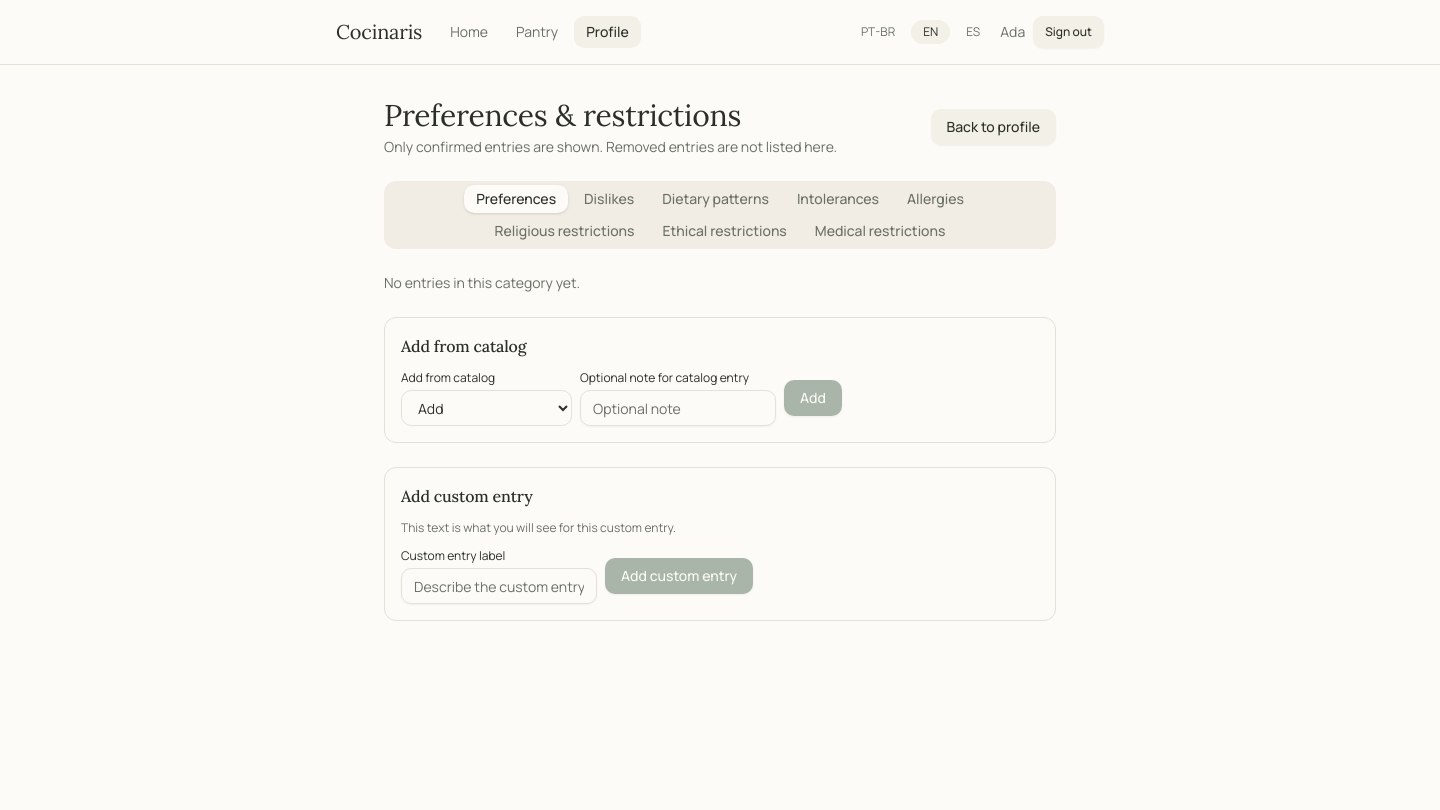
Scenario: ProductionApp dirty logout protection › prompts before logout when Preferences is dirty
Expected: the element with test id "profile-preferences" is shown, [384,97,1056,621]
Type "Dirty preference draft" into the field with test id "profile-preferences-custom-label".
click(499, 586); type("Dirty preference draft")  # box [401,568,597,604]
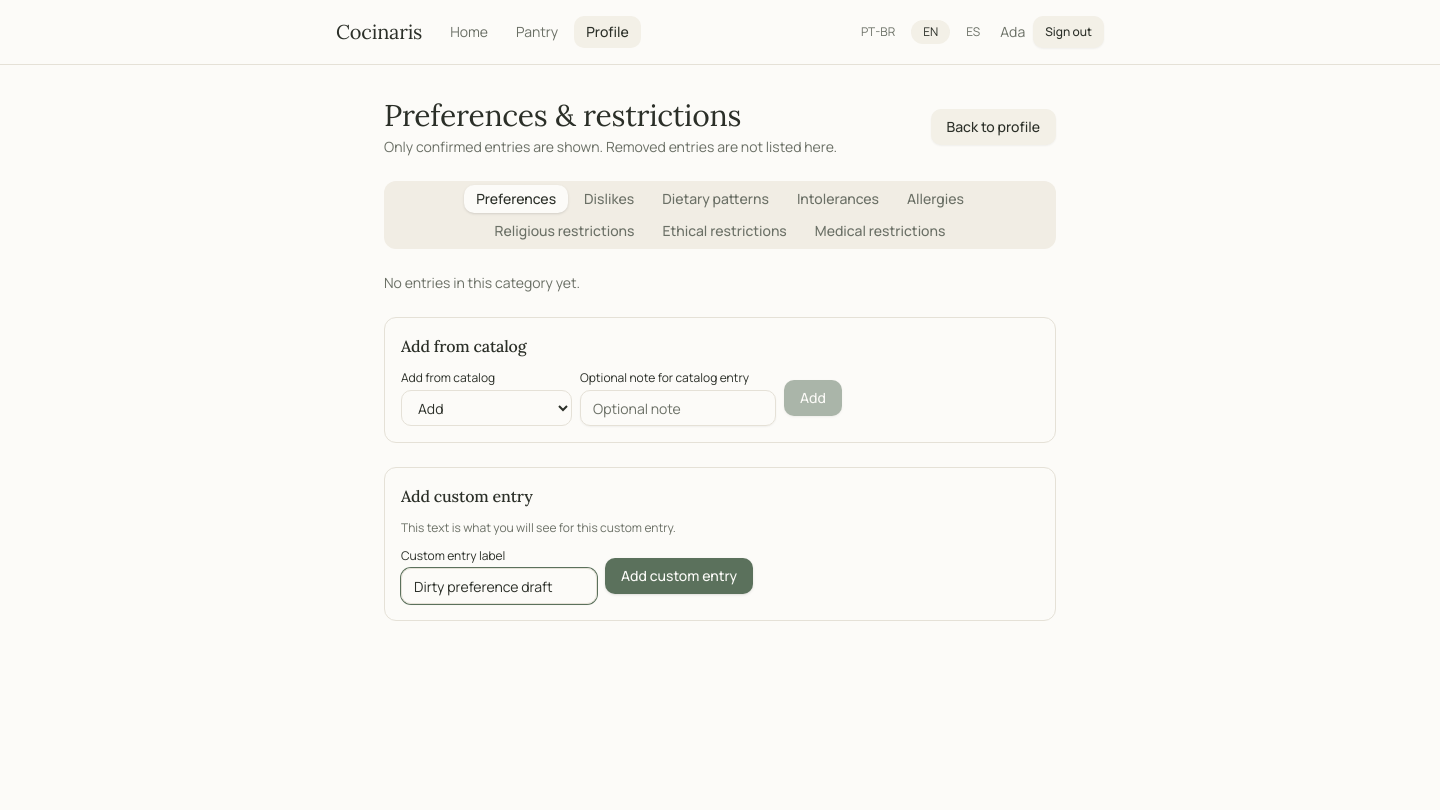
Click the button with test id "production-logout".
click(1069, 32)  # box [1033,16,1104,48]
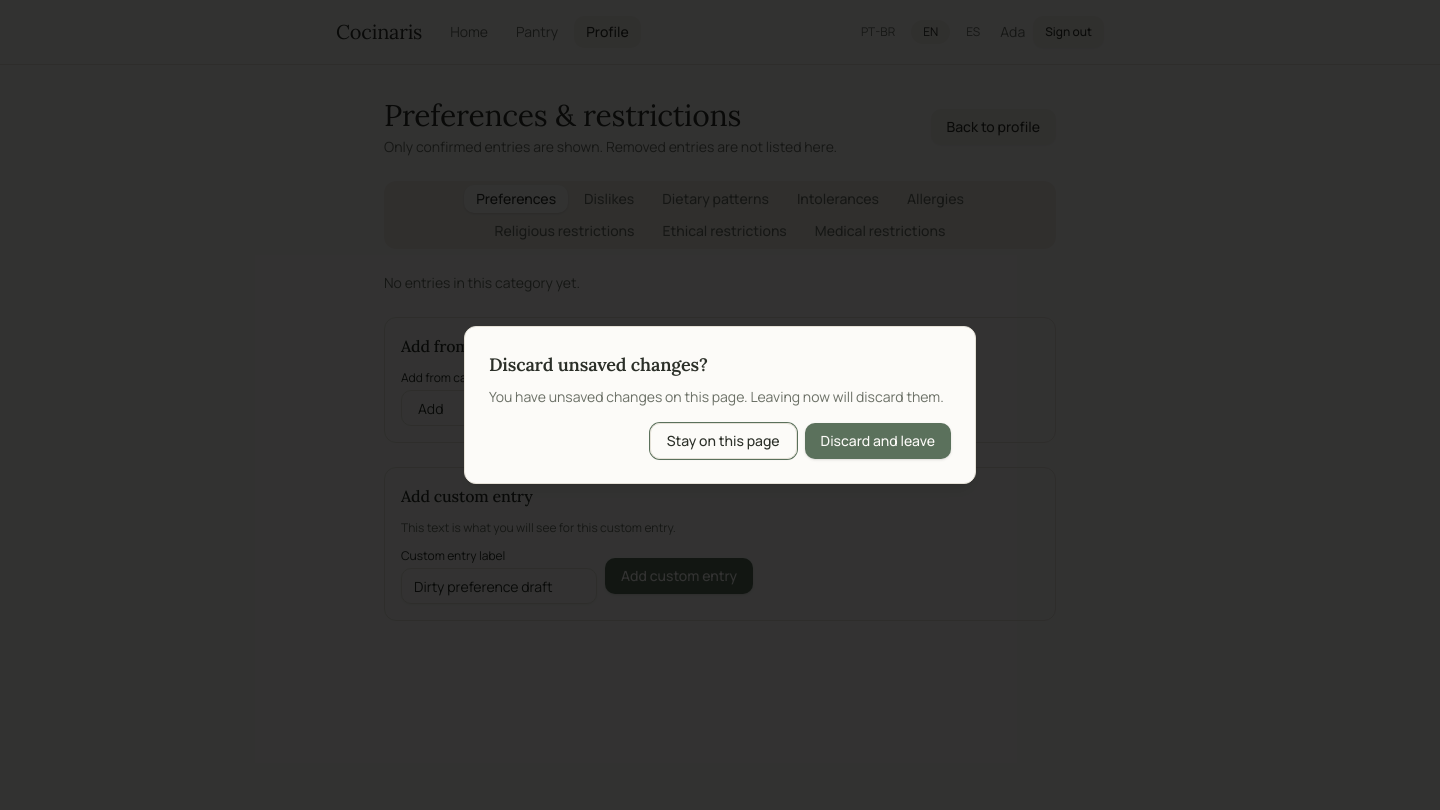
Result: the dialog is shown at [464,326,976,484]
